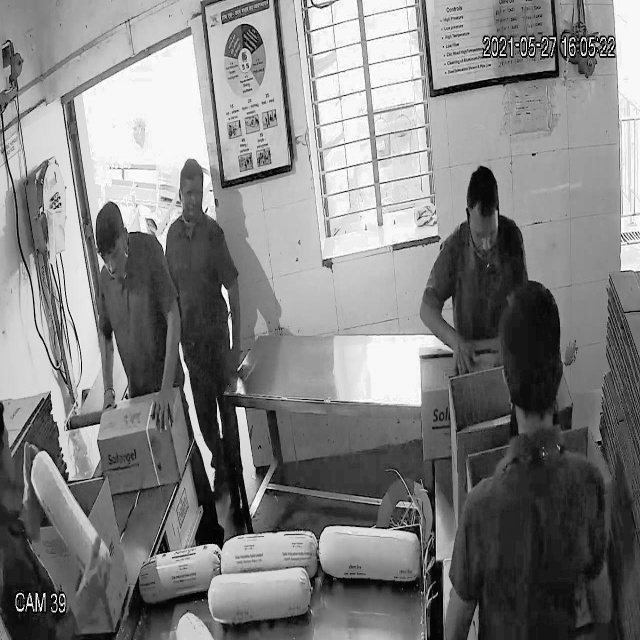Sin_gafas: (469, 219, 504, 252), (95, 243, 128, 276)
